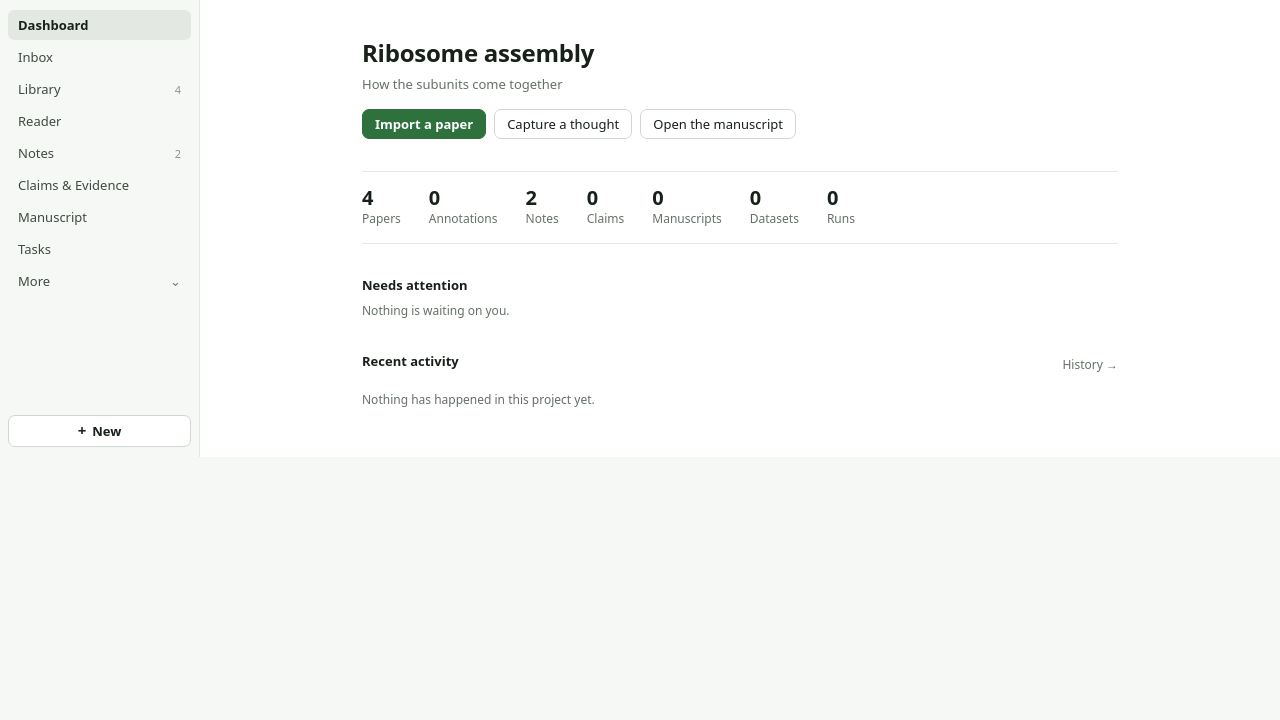
it: the rail › shows a page once the project turns it on
Click the button with aria-label "More pages". click: (100, 281)
box: [8,266,191,296]
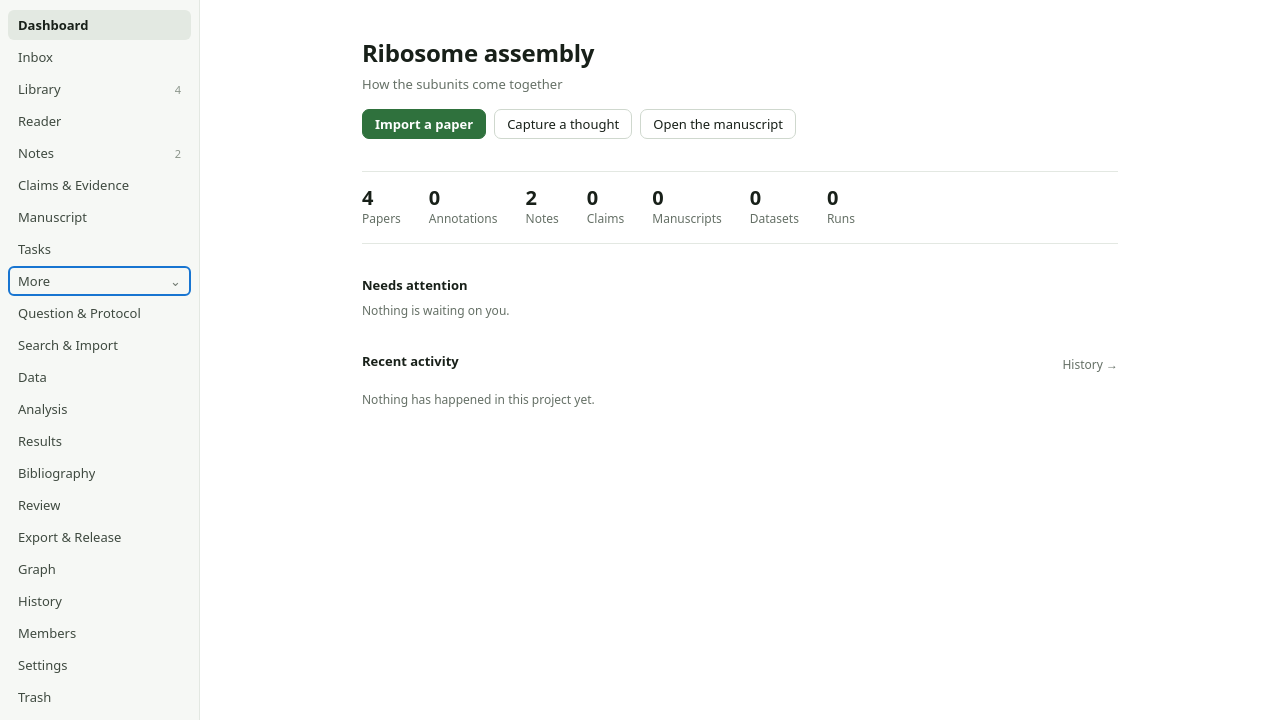
Expected: the button "Analysis" is shown, [8,394,191,424]
